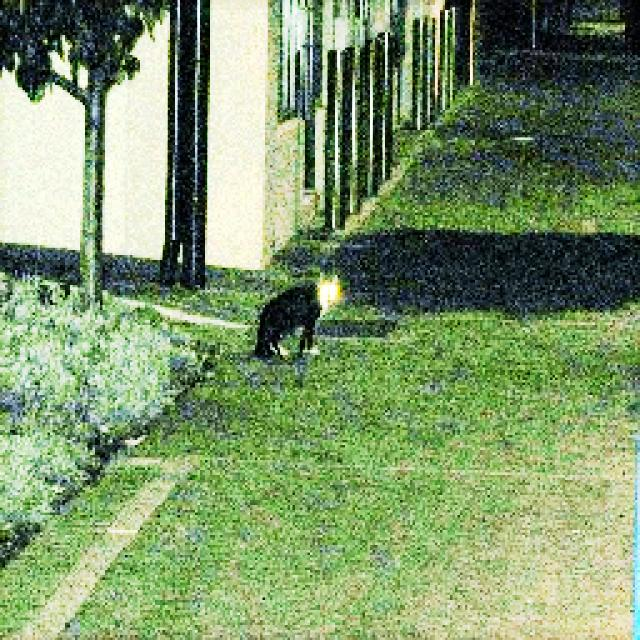cat: (246, 271, 346, 368)
